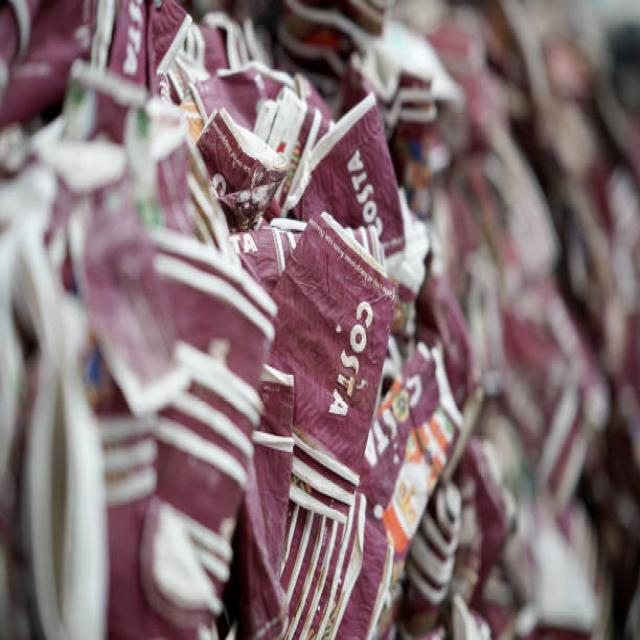electronic: (267, 208, 396, 636), (194, 105, 288, 229)
